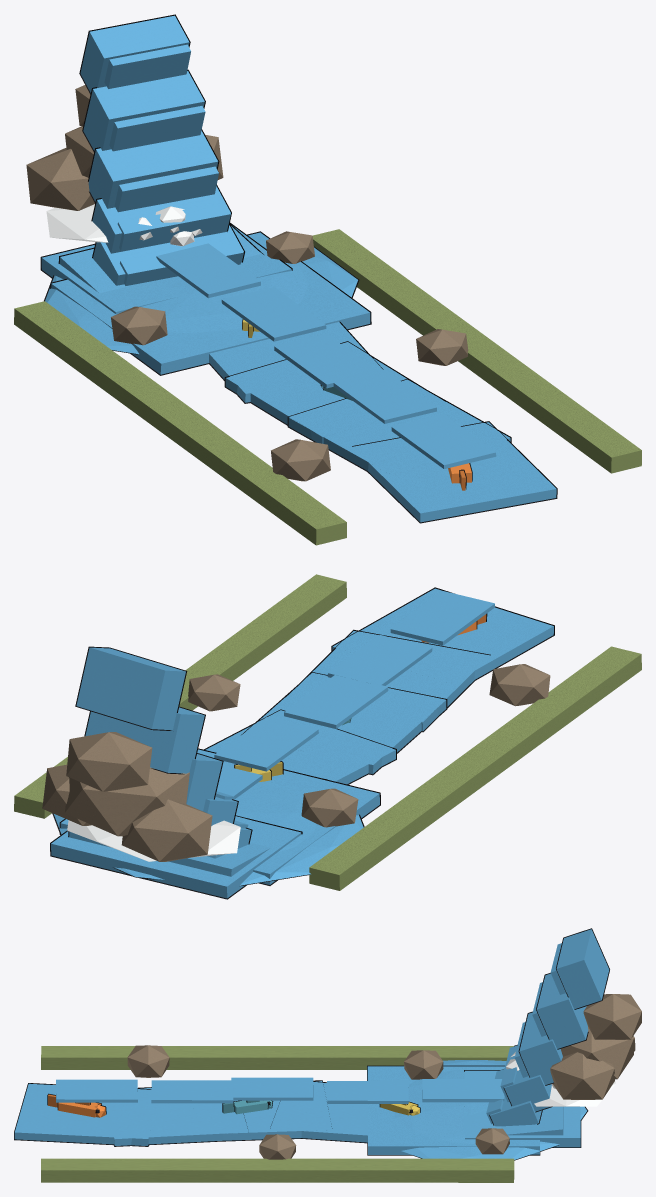
File: bethlehem_stream_fish_alive_v4.glb
3 views of the same model, one above another, from view 1: azimuth 30°, elevation 25°; view 2: azimuth 150°, elevation 25°; view 3: azimuth 270°, elevation 25° (orthographic). The views are drawn at different scales.
Parts seen in each view (by area): view 1: Stream_Main, Stream_Pool, Waterfall_Main, Bank_0, Bank_1, Stream_Ripple_0, Stream_Ripple_4, Stream_Ripple_1, Stream_Ripple_3, WF_Rock_1, Stream_Ripple_2, Waterfall_Sheet_2 (+14 smaller); view 2: Stream_Main, Bank_0, Stream_Pool, Waterfall_Main, Bank_1, WF_Rock_0, WF_Rock_3, WF_Rock_1, Stream_Ripple_0, Stream_Ripple_3, Stream_Ripple_2, Stream_Ripple_1 (+10 smaller); view 3: Stream_Main, Bank_1, Stream_Pool, Waterfall_Main, Bank_0, WF_Rock_2, WF_Rock_3, Stream_Ripple_1, Stream_Ripple_0, Stream_Ripple_2, Stream_Ripple_4, Stream_Ripple_3 (+13 smaller).
Part boxes in pixels (x1=…): Stream_Main: x1=209, y1=322, x2=556, y2=522; Stream_Pool: x1=41, y1=226, x2=370, y2=374; Waterfall_Main: x1=80, y1=15, x2=243, y2=285; Bank_0: x1=14, y1=301, x2=346, y2=545; Bank_1: x1=312, y1=229, x2=641, y2=473; Stream_Ripple_0: x1=391, y1=414, x2=496, y2=468; Stream_Ripple_4: x1=156, y1=243, x2=260, y2=298; Stream_Ripple_1: x1=333, y1=369, x2=436, y2=423; Stream_Ripple_3: x1=221, y1=287, x2=326, y2=341; WF_Rock_1: x1=26, y1=148, x2=94, y2=210; Stream_Ripple_2: x1=274, y1=334, x2=377, y2=388; Waterfall_Sheet_2: x1=114, y1=166, x2=218, y2=212; Stream_Main: x1=205, y1=588, x2=553, y2=784; Bank_0: x1=309, y1=646, x2=641, y2=890; Stream_Pool: x1=51, y1=749, x2=379, y2=898; Waterfall_Main: x1=76, y1=647, x2=251, y2=858; Bank_1: x1=14, y1=574, x2=346, y2=818; WF_Rock_0: x1=65, y1=767, x2=189, y2=836; WF_Rock_3: x1=66, y1=732, x2=152, y2=791; WF_Rock_1: x1=121, y1=799, x2=212, y2=861; Stream_Ripple_0: x1=390, y1=591, x2=494, y2=645; Stream_Ripple_3: x1=214, y1=717, x2=318, y2=771; Stream_Ripple_2: x1=284, y1=675, x2=388, y2=728; Stream_Ripple_1: x1=327, y1=635, x2=432, y2=685; Stream_Main: x1=14, y1=1081, x2=367, y2=1145; Bank_1: x1=41, y1=1158, x2=514, y2=1182; Stream_Pool: x1=367, y1=1060, x2=587, y2=1159; Waterfall_Main: x1=490, y1=929, x2=609, y2=1126; Bank_0: x1=41, y1=1046, x2=513, y2=1069; WF_Rock_2: x1=550, y1=1052, x2=614, y2=1099; WF_Rock_3: x1=583, y1=994, x2=641, y2=1039; Stream_Ripple_1: x1=151, y1=1080, x2=233, y2=1103; Stream_Ripple_0: x1=56, y1=1079, x2=137, y2=1102; Stream_Ripple_2: x1=231, y1=1077, x2=313, y2=1100; Stream_Ripple_4: x1=422, y1=1079, x2=504, y2=1102; Stream_Ripple_3: x1=327, y1=1080, x2=408, y2=1103.
Bounding box in the file's own units: 3.43 × 2.29 × 7.3.
17 materials, 17 textured.
